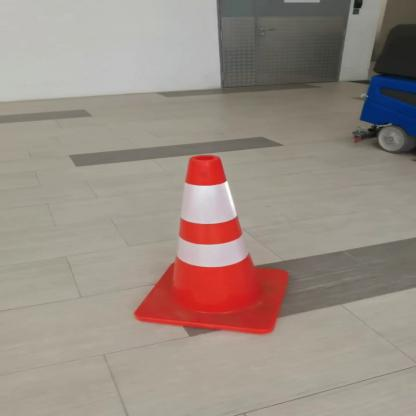cone: (120, 146, 294, 336)
